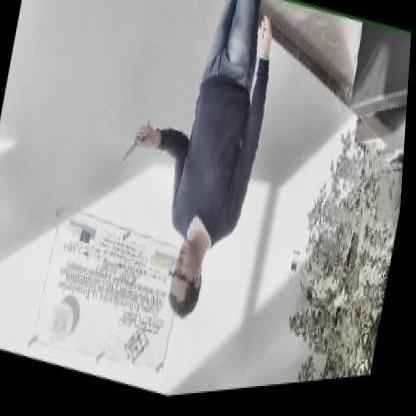knife: (122, 112, 155, 174)
